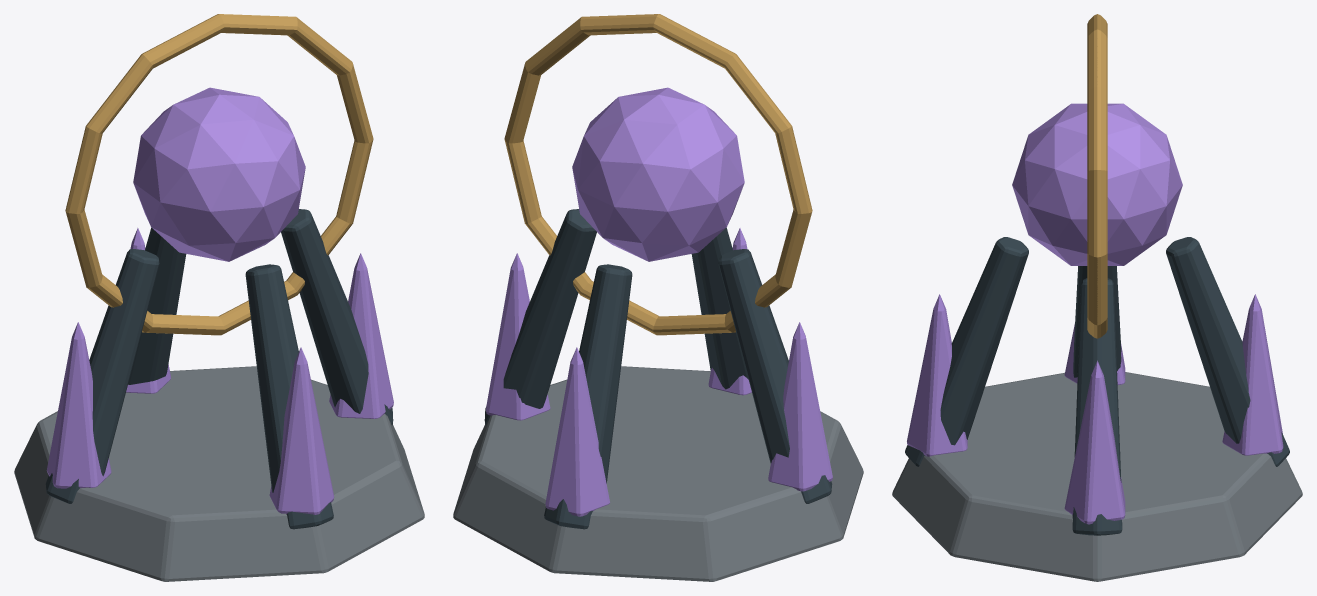
The model's file is gravitywell.glb.
The picture shows the model from 3 angles, left to right: view 1: azimuth 30°, elevation 25°; view 2: azimuth 150°, elevation 25°; view 3: azimuth 270°, elevation 25°; orthographic projection. The views are drawn at different scales.
Parts seen in each view (by area): view 1: StoneFoundation.002, SuspendedCore, Buttress.003, Orbit; view 2: StoneFoundation.002, SuspendedCore, Buttress.003, Orbit; view 3: StoneFoundation.002, SuspendedCore, Buttress.003, Orbit.
Boxes of the visible parts, x1=… form: StoneFoundation.002: x1=14, y1=366, x2=424, y2=581; SuspendedCore: x1=46, y1=87, x2=393, y2=514; Buttress.003: x1=45, y1=209, x2=393, y2=529; Orbit: x1=65, y1=14, x2=373, y2=335; StoneFoundation.002: x1=453, y1=366, x2=863, y2=581; SuspendedCore: x1=485, y1=87, x2=832, y2=516; Buttress.003: x1=484, y1=209, x2=832, y2=529; Orbit: x1=504, y1=14, x2=812, y2=335; StoneFoundation.002: x1=892, y1=372, x2=1302, y2=581; SuspendedCore: x1=907, y1=103, x2=1283, y2=524; Buttress.003: x1=905, y1=237, x2=1289, y2=535; Orbit: x1=1087, y1=14, x2=1107, y2=338.
Size of the model in its own units: 2.21 by 2.77 by 2.21.
